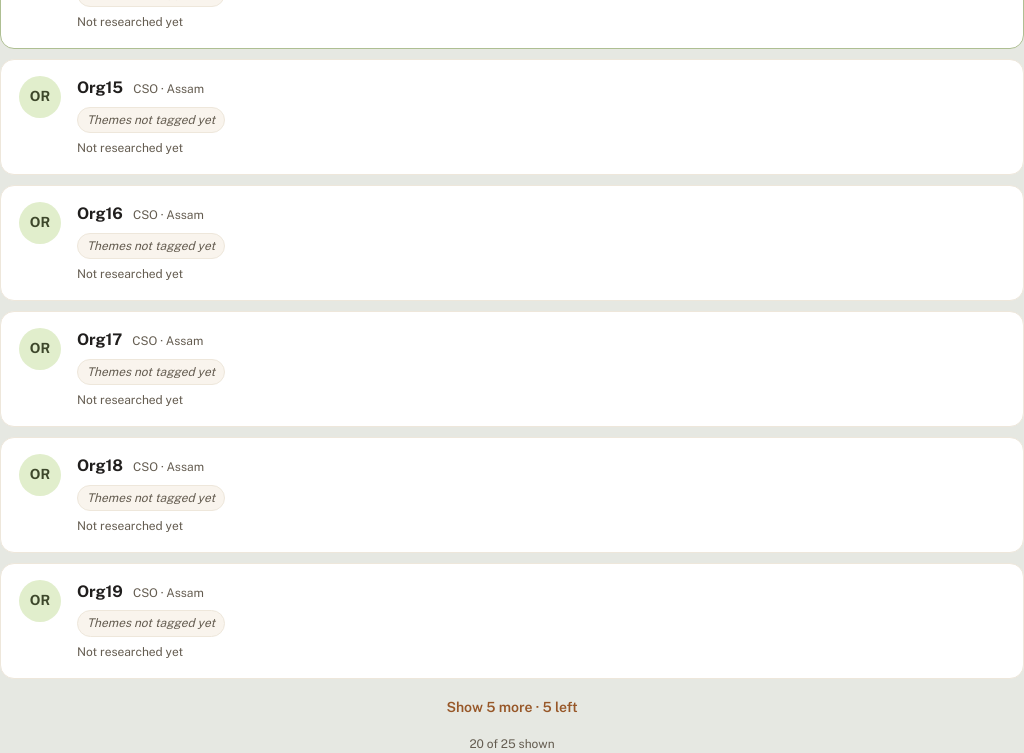
Test: RegistryClient › shows twenty rows a page and the rest on request
(page scrolled)
Expected: the text "20 of 25 shown" is shown, left=469, top=737, right=555, bottom=751
What coordinates should you click on to do the following:
click the button "Show 5 more · 5 left"
I would click on:
 (512, 707)
Its box is left=427, top=689, right=597, bottom=725.
(page scrolled)
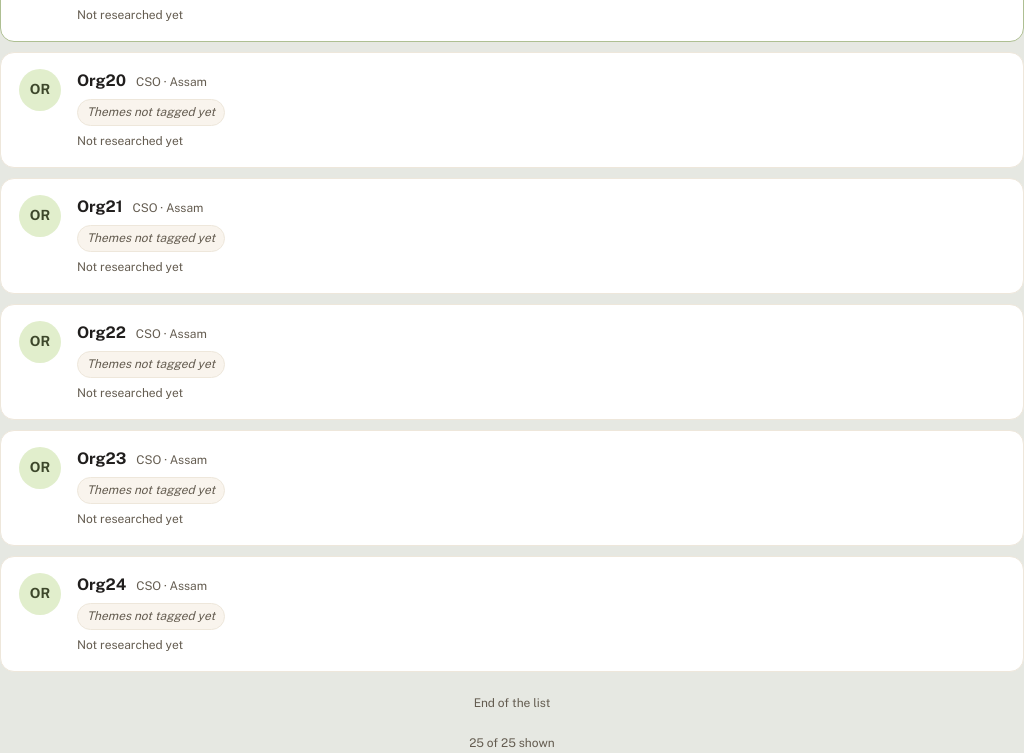
Now the text "End of the list" is shown, box left=474, top=696, right=550, bottom=710
